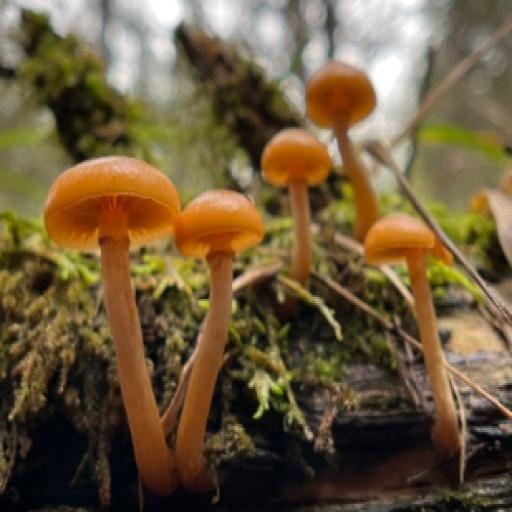mushroom: (36, 144, 267, 424), (264, 51, 385, 213), (360, 211, 454, 341)
